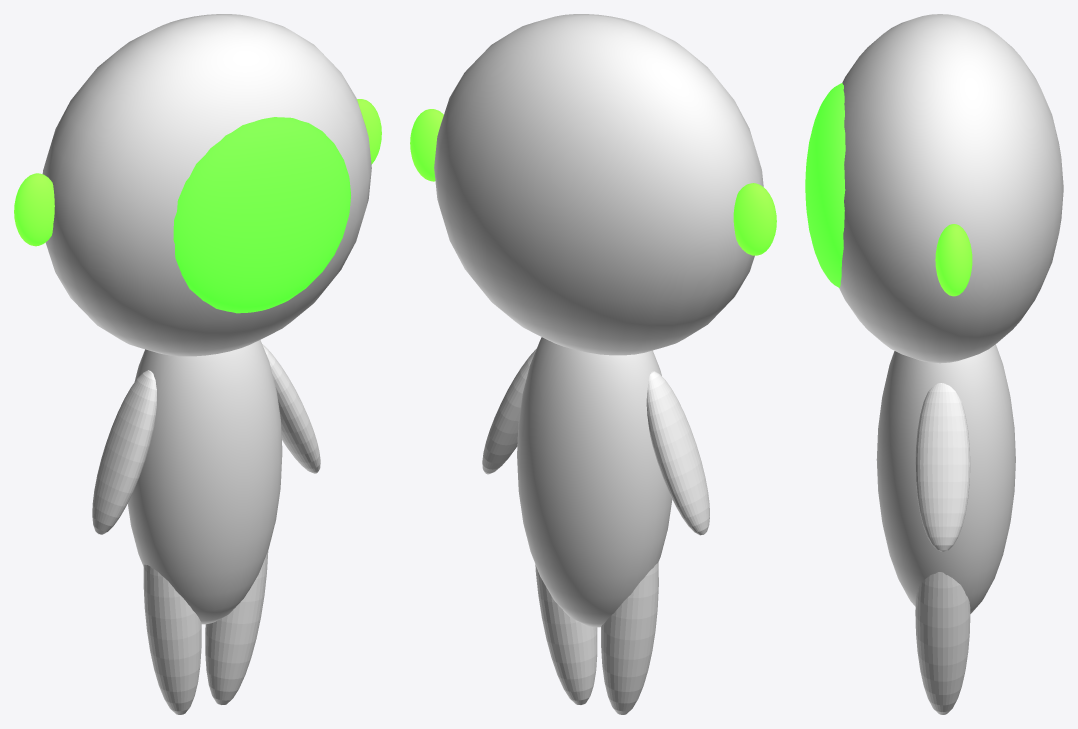
Rendered from Zip_Mesh.fbx.
3 views of the same model, side by side, from view 1: azimuth 30°, elevation 25°; view 2: azimuth 150°, elevation 25°; view 3: azimuth 270°, elevation 25° (orthographic).
Parts seen in each view (by area): view 1: Sphere, Sphere.001, Sphere.004, Sphere.007, Sphere.005, Sphere.008, Sphere.006, Sphere.002, Sphere.003; view 2: Sphere, Sphere.001, Sphere.005, Sphere.007, Sphere.008, Sphere.002, Sphere.006, Sphere.003; view 3: Sphere, Sphere.001, Sphere.006, Sphere.004, Sphere.008, Sphere.003.
Part boxes in pixels (x1,y1,x2,y2): Sphere: (42, 14, 371, 356); Sphere.001: (127, 340, 282, 624); Sphere.004: (173, 117, 350, 313); Sphere.007: (143, 564, 201, 714); Sphere.005: (92, 370, 156, 534); Sphere.008: (205, 550, 268, 705); Sphere.006: (262, 344, 320, 473); Sphere.002: (14, 173, 54, 246); Sphere.003: (357, 99, 381, 164); Sphere: (434, 14, 763, 355); Sphere.001: (517, 337, 672, 627); Sphere.005: (646, 371, 709, 535); Sphere.007: (601, 562, 658, 714); Sphere.008: (535, 564, 597, 705); Sphere.002: (733, 183, 776, 255); Sphere.006: (482, 348, 536, 474); Sphere.003: (410, 109, 443, 181); Sphere: (839, 14, 1063, 363); Sphere.001: (876, 344, 1015, 613); Sphere.006: (915, 383, 970, 551); Sphere.004: (805, 83, 845, 287); Sphere.008: (915, 572, 970, 714); Sphere.003: (935, 224, 972, 296).
Size of the model in its own units: 237 by 426 by 148.
